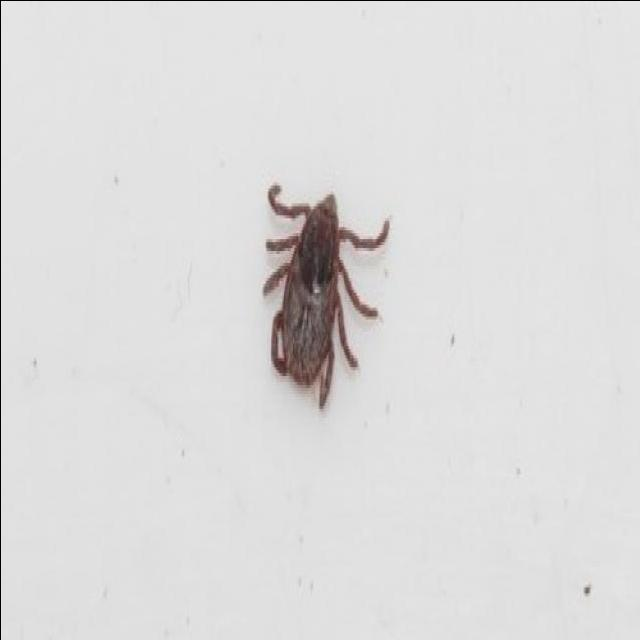Rhipicephalus Sanguineus-F: (261, 185, 389, 411)
